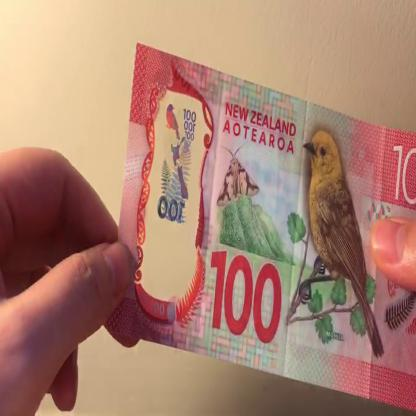100B: (156, 99, 198, 257)
